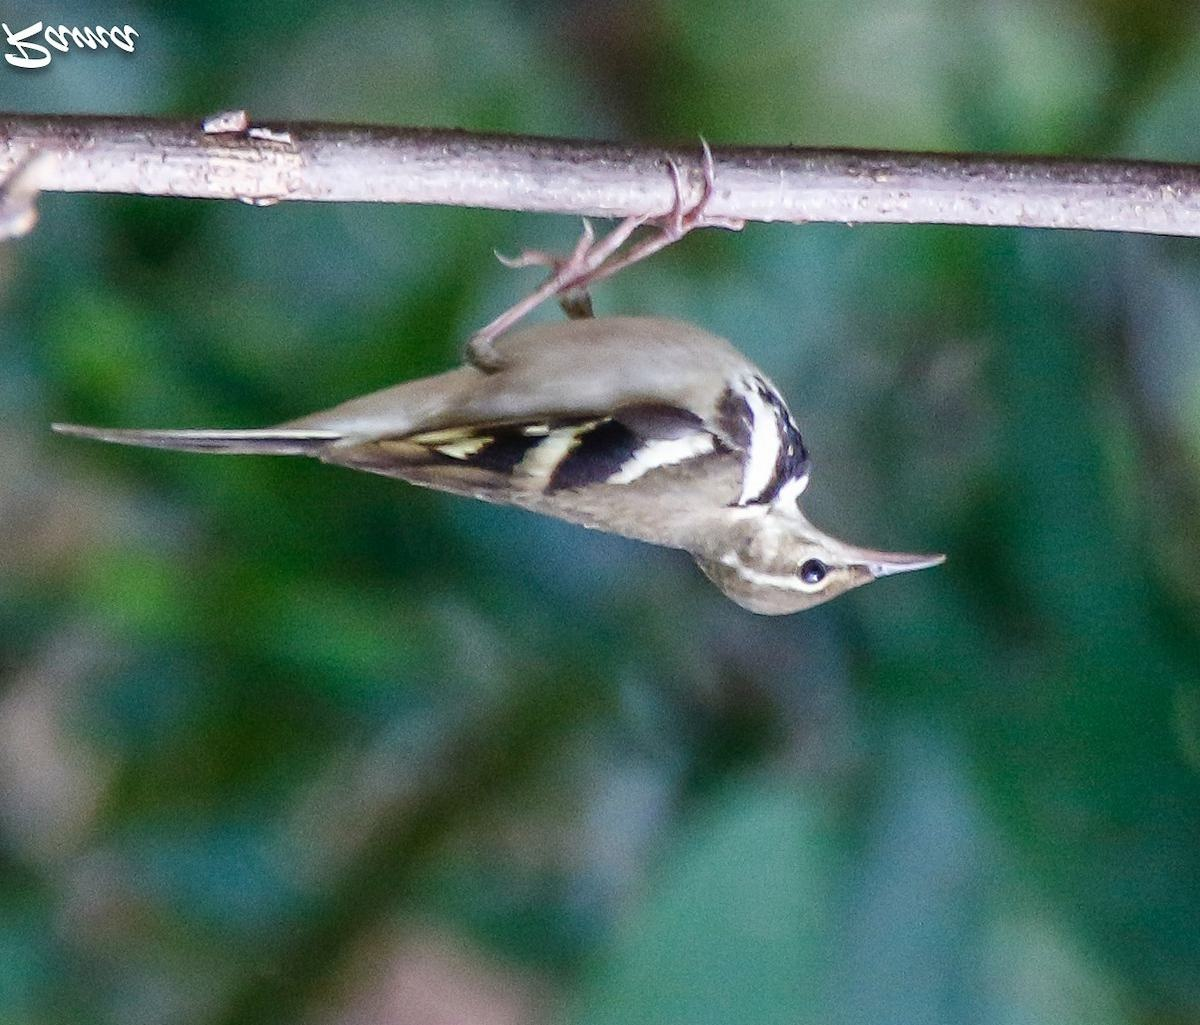wagtail: (39, 190, 971, 621)
